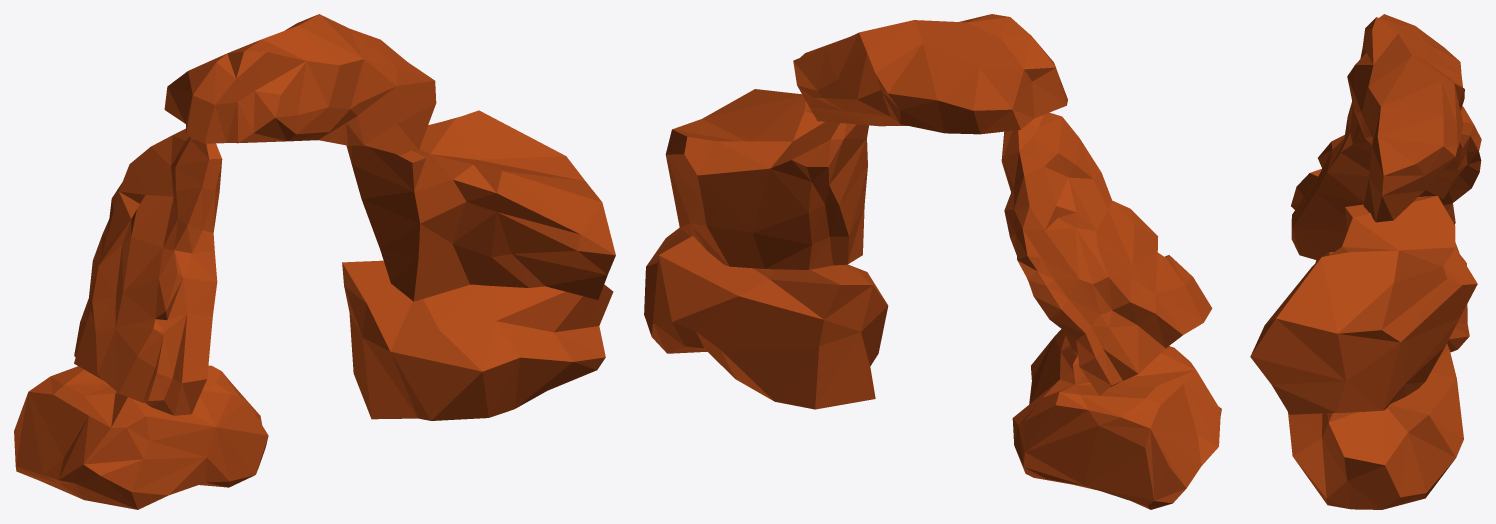
File: stone_big_3.fbx
3 views of the same model, side by side, from view 1: azimuth 30°, elevation 25°; view 2: azimuth 150°, elevation 25°; view 3: azimuth 270°, elevation 25° (orthographic). The views are drawn at different scales.
Parts seen in each view (by area): view 1: Stone_desert_big_003; view 2: Stone_desert_big_003; view 3: Stone_desert_big_003.
Part boxes in pixels (x1=…): Stone_desert_big_003: x1=14, y1=14, x2=615, y2=509; Stone_desert_big_003: x1=644, y1=14, x2=1221, y2=509; Stone_desert_big_003: x1=1250, y1=14, x2=1481, y2=509.
Bounding box in the file's own units: 1544 × 1093 × 618.
1 material, 1 textured.
